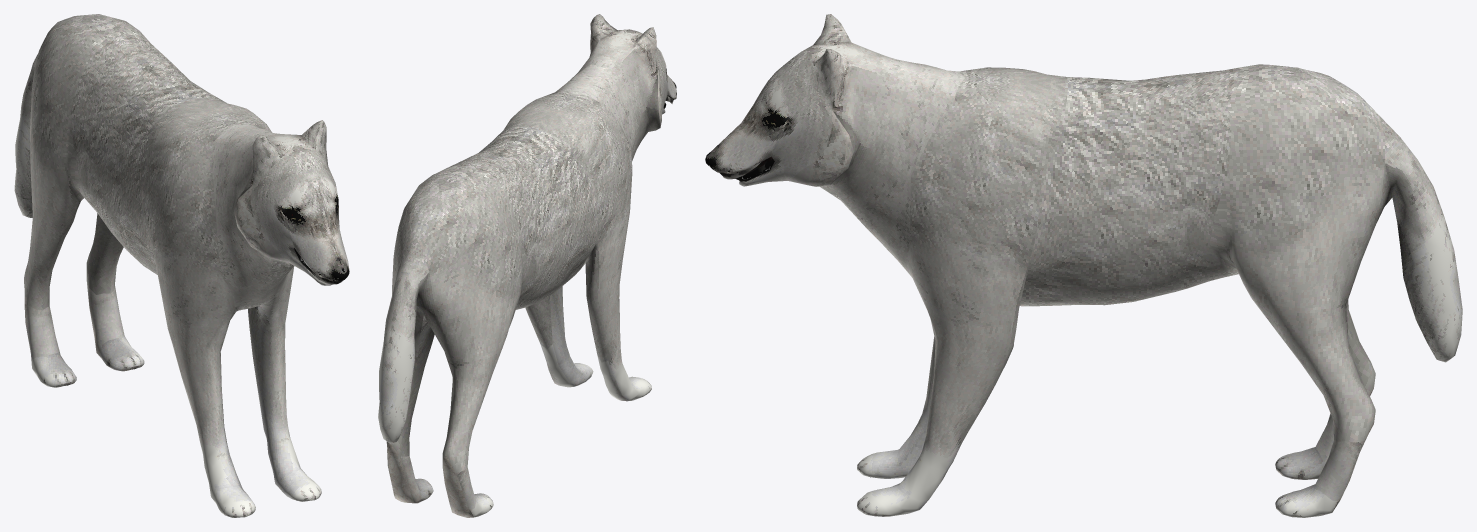
Rendered from natural-wolf-weathered.glb.
3 views of the same model, side by side, from view 1: azimuth 30°, elevation 25°; view 2: azimuth 150°, elevation 25°; view 3: azimuth 270°, elevation 25° (orthographic). The views are drawn at different scales.
Visible parts, largest first — view 1: natural-wolf-weathered runtime mesh; view 2: natural-wolf-weathered runtime mesh; view 3: natural-wolf-weathered runtime mesh.
Part boxes in pixels (x1,y1,x2,y2): natural-wolf-weathered runtime mesh: (14,14,349,517); natural-wolf-weathered runtime mesh: (378,14,676,517); natural-wolf-weathered runtime mesh: (705,14,1462,517).
Bounding box in the file's own units: 0.318 × 0.96 × 1.43.
1 material, 1 textured.
